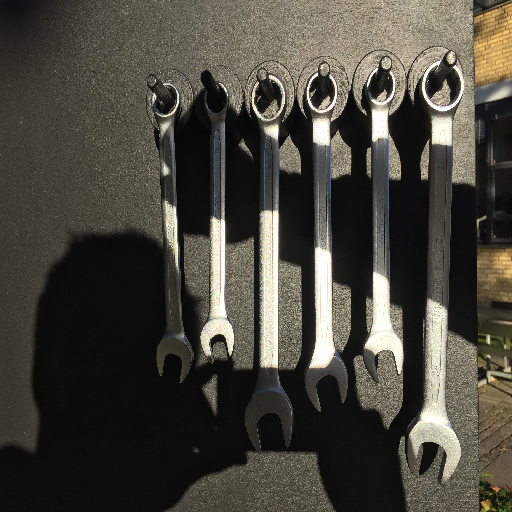bottom: (403, 412, 462, 484), (245, 390, 293, 454), (303, 354, 349, 412), (362, 329, 405, 383), (153, 334, 194, 385), (199, 316, 236, 367)
top: (417, 59, 466, 117), (250, 76, 288, 125), (303, 70, 341, 118), (364, 65, 397, 111), (150, 81, 181, 122), (202, 81, 233, 121)
